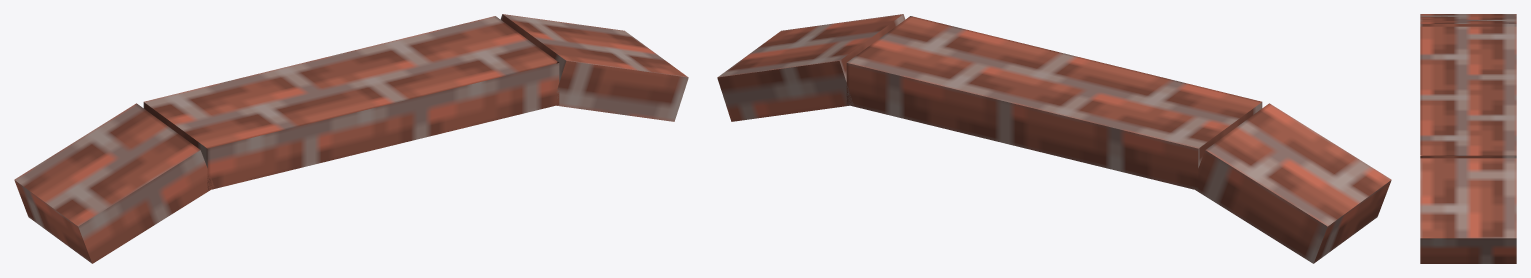
File: brick_cover.obj
The picture shows the model from 3 angles, left to right: view 1: azimuth 30°, elevation 25°; view 2: azimuth 150°, elevation 25°; view 3: azimuth 270°, elevation 25°; orthographic projection. The views are drawn at different scales.
Visible parts, largest first — view 1: cube; view 2: cube; view 3: cube.
Boxes of the visible parts, x1,y1,x2,y2 form: cube: (14, 14, 688, 263); cube: (717, 14, 1391, 263); cube: (1420, 14, 1516, 263).
Bounding box in the file's own units: 2.75 × 0.3771 × 0.5.
Materials: 1 (1 with a texture image).
